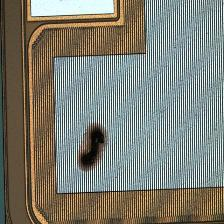PARTICLE: (75, 122, 112, 175)
